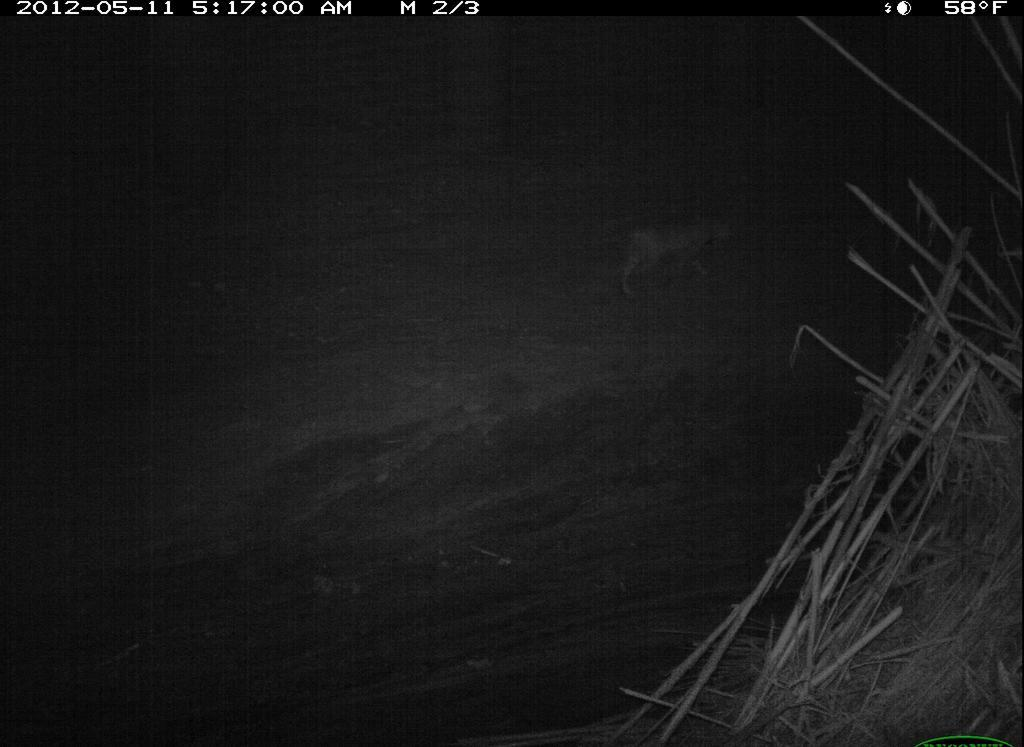bobcat: (610, 208, 740, 301)
